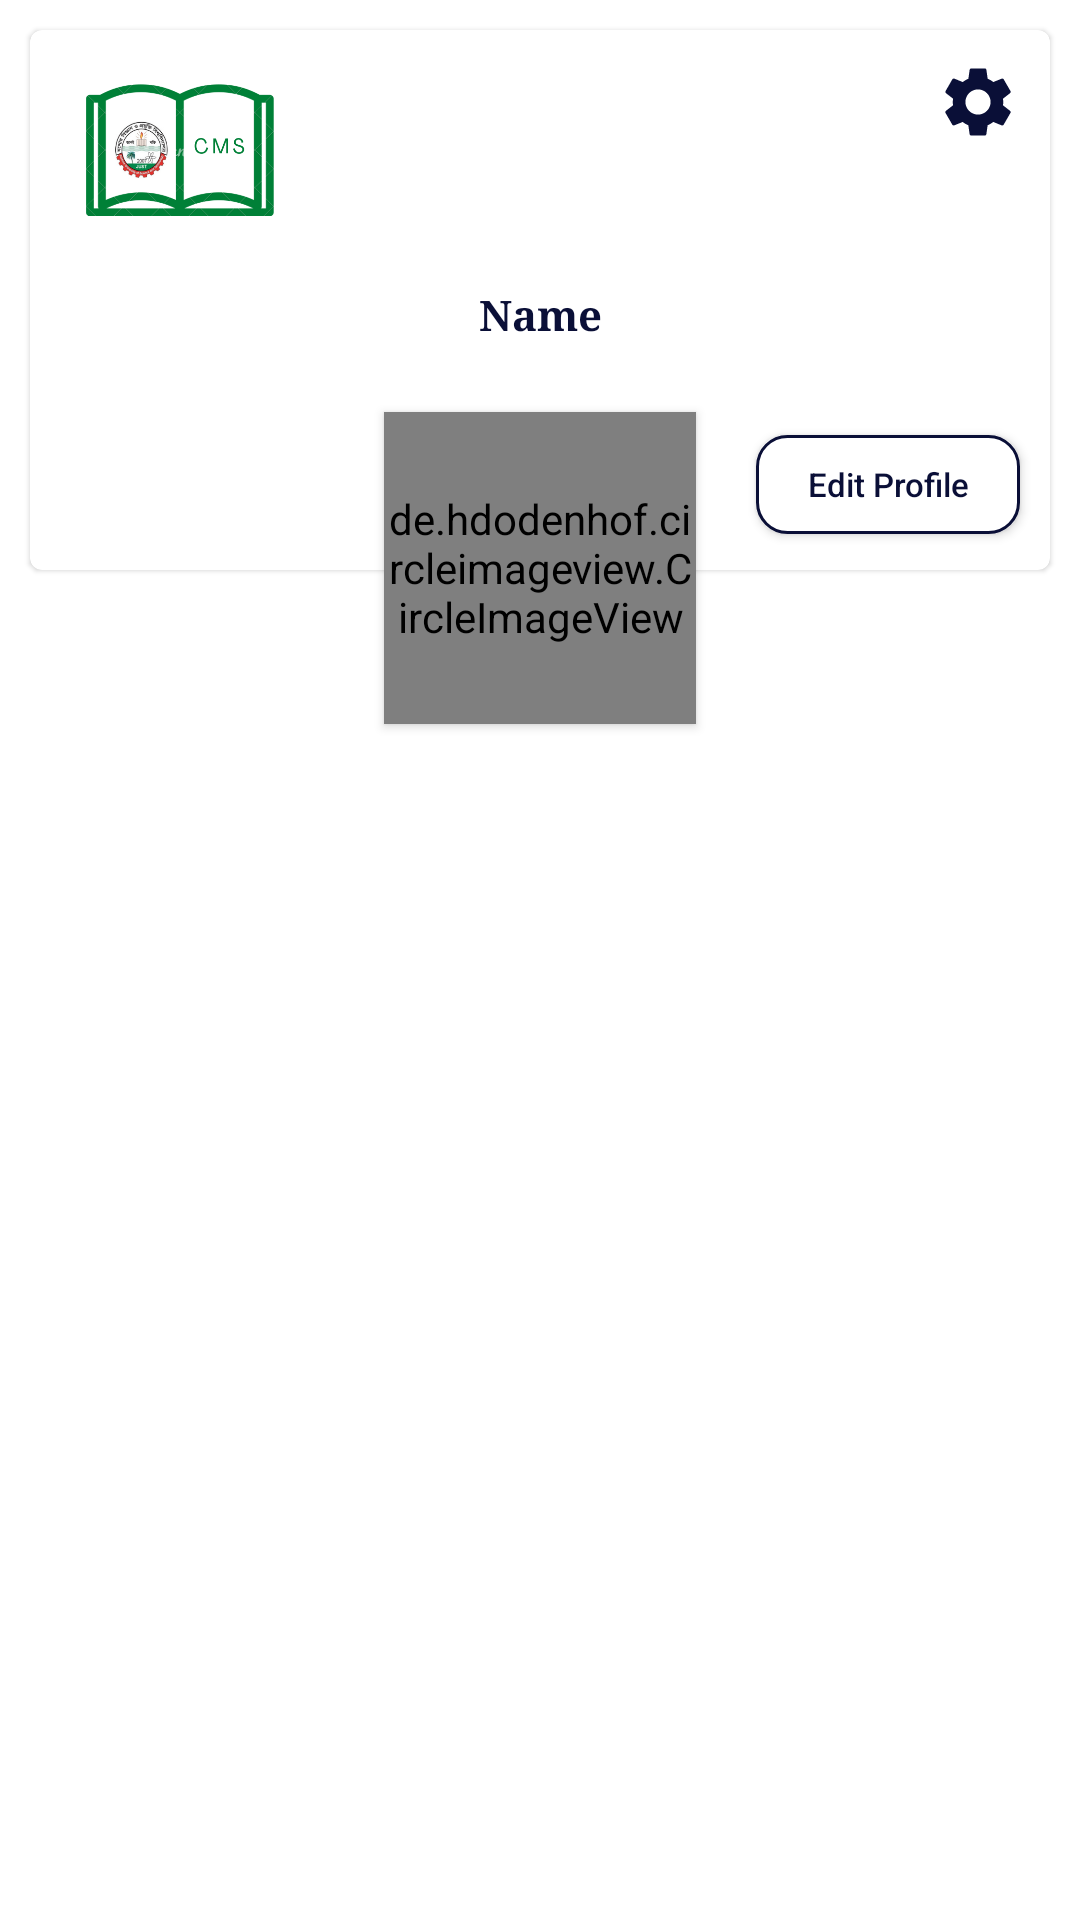

Named icons in this screenshot (1080 x 1920) and their centers, [x,y]:
settings: [978,102]
